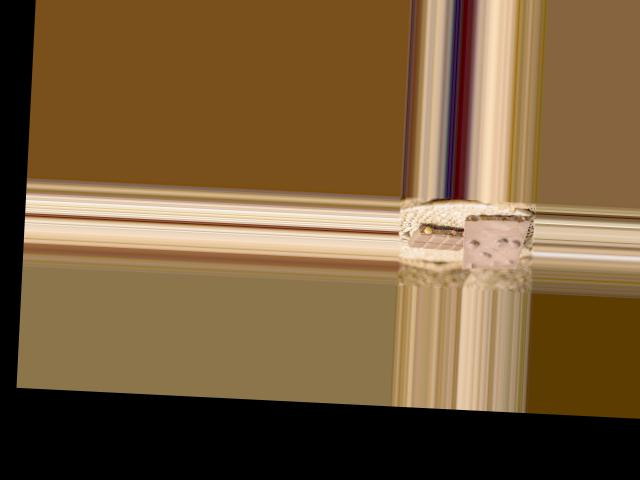chocolate: (457, 213, 530, 273)
